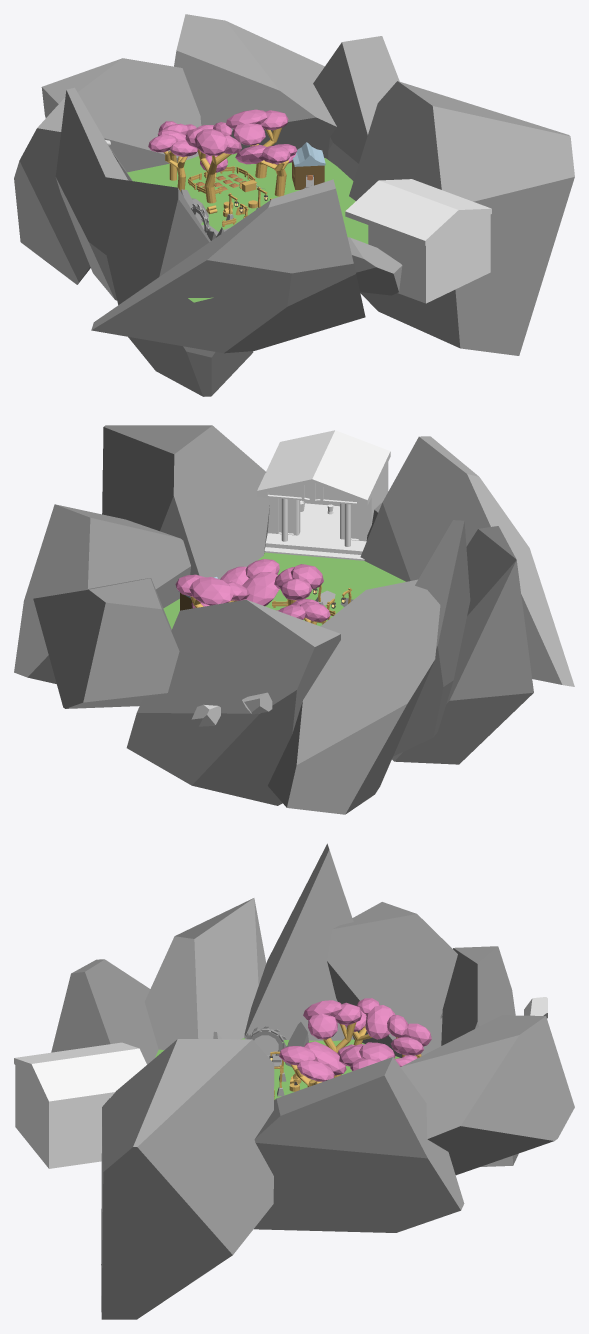
File: portfolio.glb
3 renders of one model, top to bottom at view 1: azimuth 30°, elevation 25°; view 2: azimuth 150°, elevation 25°; view 3: azimuth 270°, elevation 25°, orthographic. The views are drawn at different scales.
Visible parts, largest first — view 1: rock.019, rock.013, rock.014, rock.017, temple, rock.016, rock.015, rock.018, rock.009, Plane, rock.020, leaf_2 (+6 smaller); view 2: rock.016, rock.015, rock.019, rock.013, rock.017, rock.014, temple, rock.018, rock.009, Plane, leaf.001, leaf_2 (+4 smaller); view 3: rock.019, rock.018, rock.017, rock.014, rock.015, temple, rock.009, rock.013, rock.016, leaf.001, leaf_2.001, leaf_3.001 (+3 smaller).
Part boxes in pixels (<box>): rock.019: <box>349,81,574,355</box>; rock.013: <box>91,179,365,353</box>; rock.014: <box>87,174,253,396</box>; rock.017: <box>174,14,336,159</box>; temple: <box>345,179,491,303</box>; rock.016: <box>41,58,201,172</box>; rock.015: <box>14,97,132,284</box>; rock.018: <box>313,36,399,180</box>; rock.009: <box>55,87,128,300</box>; Plane: <box>127,153,368,302</box>; rock.020: <box>347,237,402,295</box>; leaf_2: <box>226,109,295,164</box>; rock.016: <box>126,599,340,805</box>; rock.015: <box>268,579,440,814</box>; rock.019: <box>102,425,269,579</box>; rock.013: <box>360,436,574,686</box>; rock.017: <box>33,578,179,708</box>; rock.014: <box>392,526,533,764</box>; temple: <box>257,430,390,560</box>; rock.018: <box>14,504,190,683</box>; rock.009: <box>393,520,470,756</box>; Plane: <box>163,552,405,629</box>; leaf.001: <box>220,559,279,606</box>; leaf_2: <box>175,574,249,608</box>; rock.019: <box>101,1039,274,1319</box>; rock.018: <box>254,1057,464,1232</box>; rock.017: <box>400,1015,574,1175</box>; rock.014: <box>144,898,266,1049</box>; rock.015: <box>327,902,457,1057</box>; temple: <box>14,1042,146,1168</box>; rock.009: <box>244,843,353,1040</box>; rock.013: <box>51,959,158,1064</box>; rock.016: <box>441,946,518,1166</box>; leaf.001: <box>279,1041,346,1081</box>; leaf_2.001: <box>303,1000,362,1066</box>; leaf_3.001: <box>387,1015,431,1055</box>.
Bounding box in the file's own units: 67.2 × 39.08 × 67.5.
